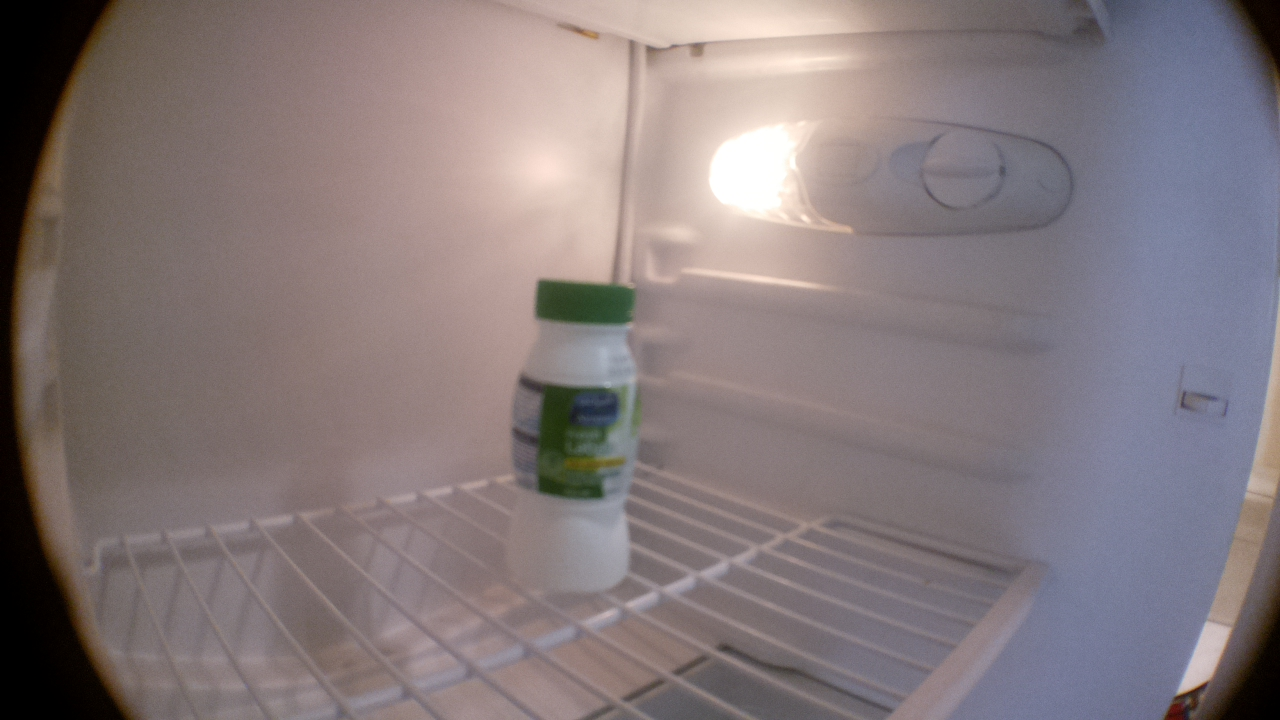laban: (511, 275, 638, 599)
